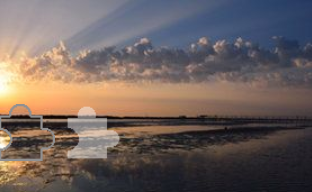target: (63, 105, 124, 164)
